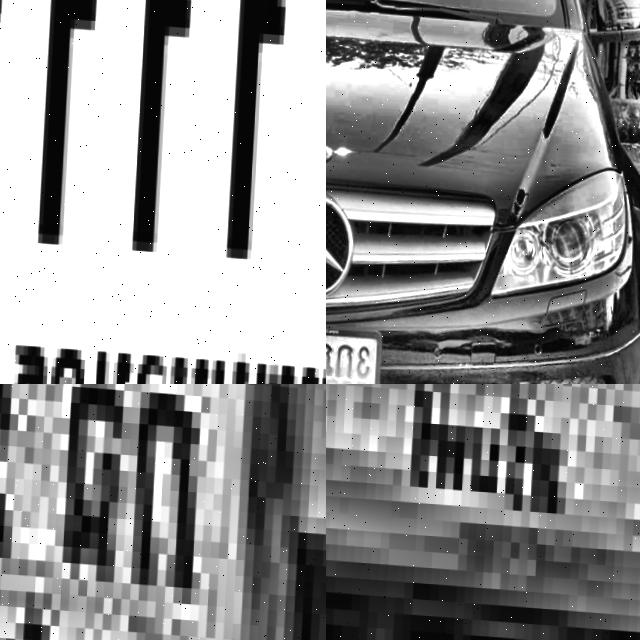license-plate: (0, 0, 326, 384), (0, 384, 326, 640), (326, 384, 640, 640), (326, 308, 391, 384)
